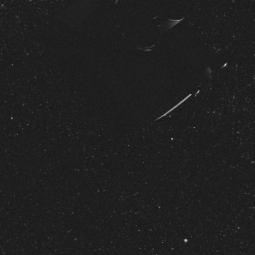cheops: (128, 13, 234, 139)
